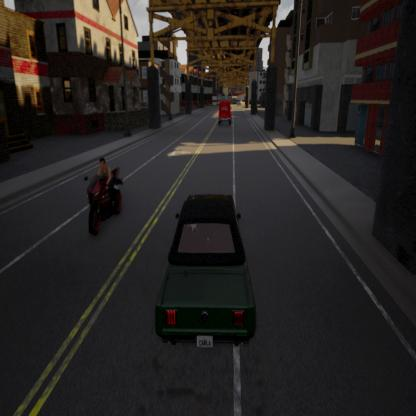Cars: (158, 196, 255, 349), (85, 156, 121, 233), (217, 98, 233, 127)
